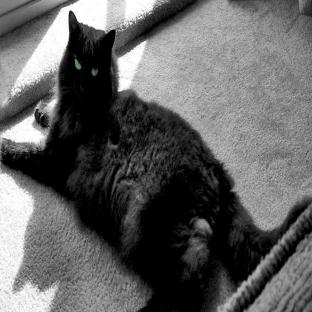Animal: (0, 11, 312, 310)
